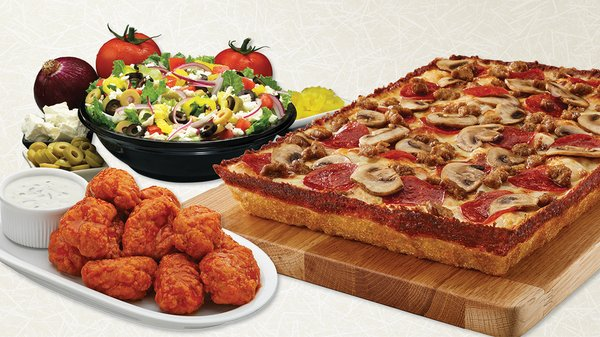sushi: (79, 60, 296, 182), (0, 167, 89, 250)
